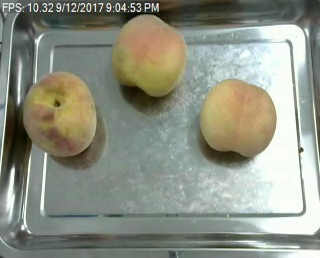Peach: (23, 71, 98, 156), (112, 14, 186, 96), (199, 80, 276, 157)
